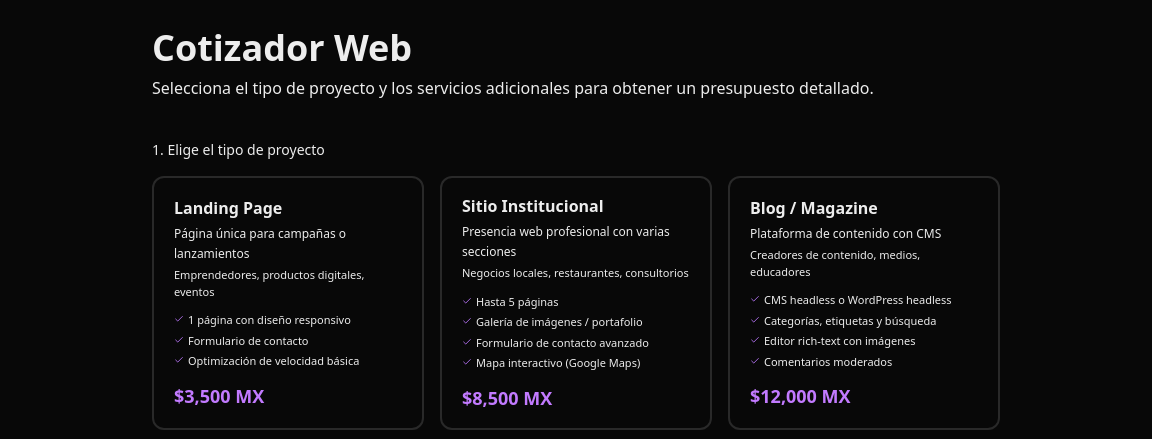
Scenario: Cotizar Page › shows addons and details after selecting a project type
Click the text "Landing Page" at (228, 208), box [174, 197, 282, 219]
(page scrolled)
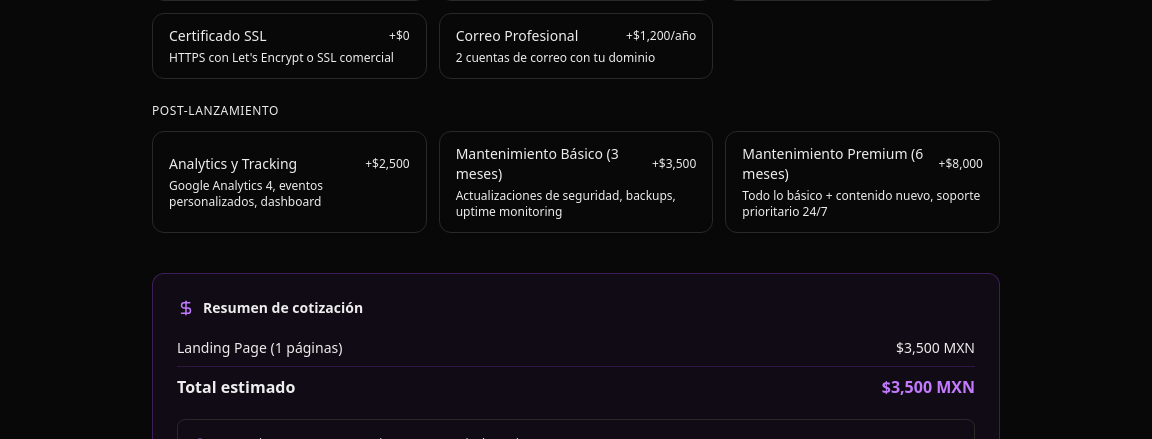
Now the heading "Resumen de cotización" is shown, box [177, 298, 363, 317]
